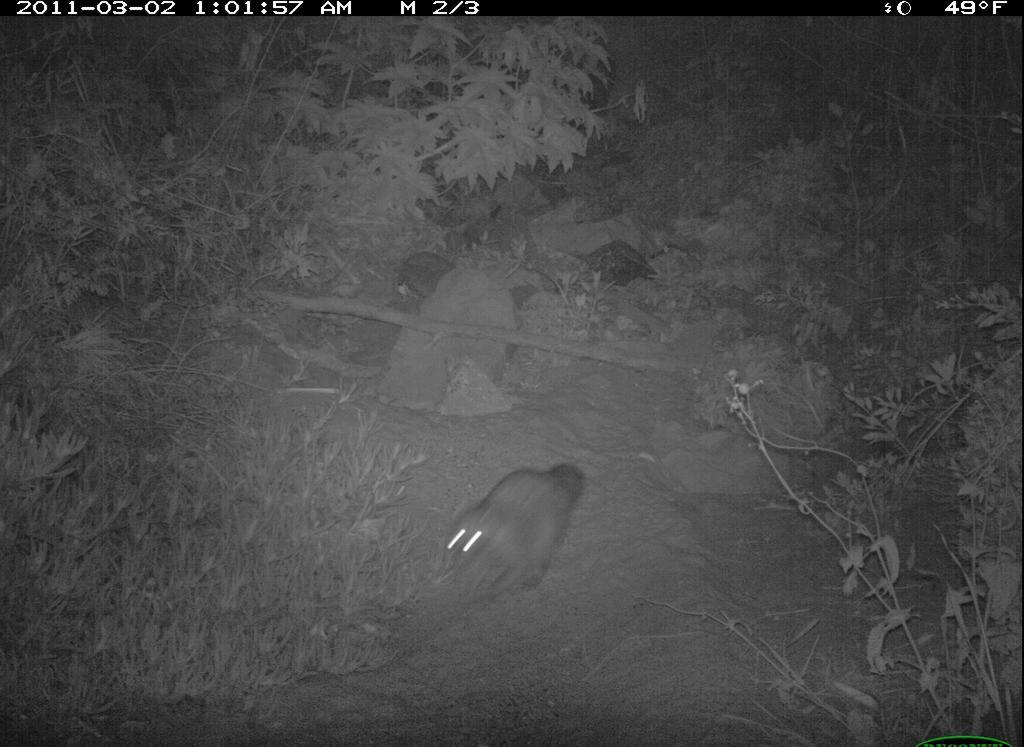raccoon: (424, 443, 600, 629)
